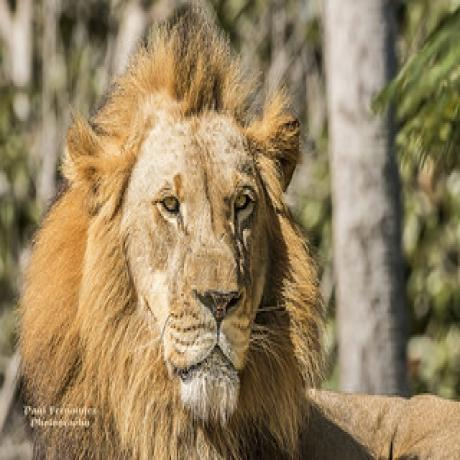Lion: (14, 15, 460, 460)
